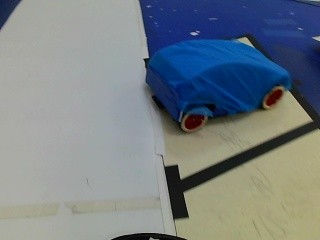car: (129, 35, 295, 131)
